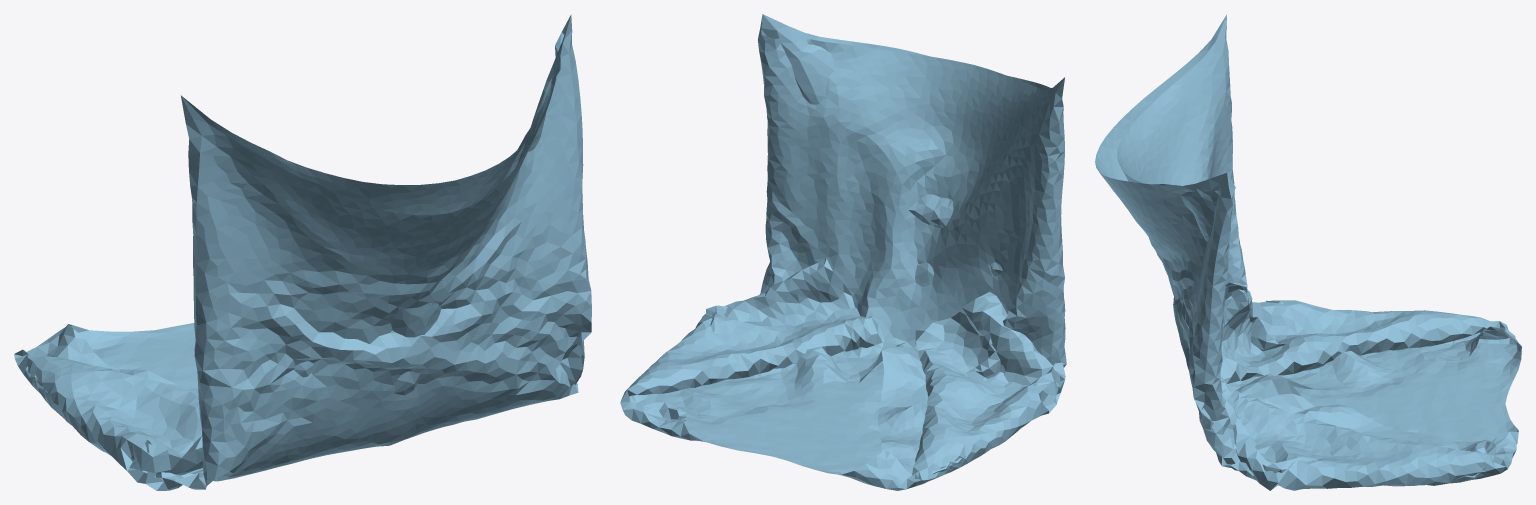
Rendered from frame_10.glb.
3 views of the same model, side by side, from view 1: azimuth 30°, elevation 25°; view 2: azimuth 150°, elevation 25°; view 3: azimuth 270°, elevation 25° (orthographic). The views are drawn at different scales.
Parts seen in each view (by area): view 1: frame_10.obj; view 2: frame_10.obj; view 3: frame_10.obj.
Part boxes in pixels (<box>): frame_10.obj: <box>14,14,591,490</box>; frame_10.obj: <box>620,14,1066,490</box>; frame_10.obj: <box>1095,14,1521,490</box>.
Size of the model in its own units: 1.2 by 1.05 by 1.27.
